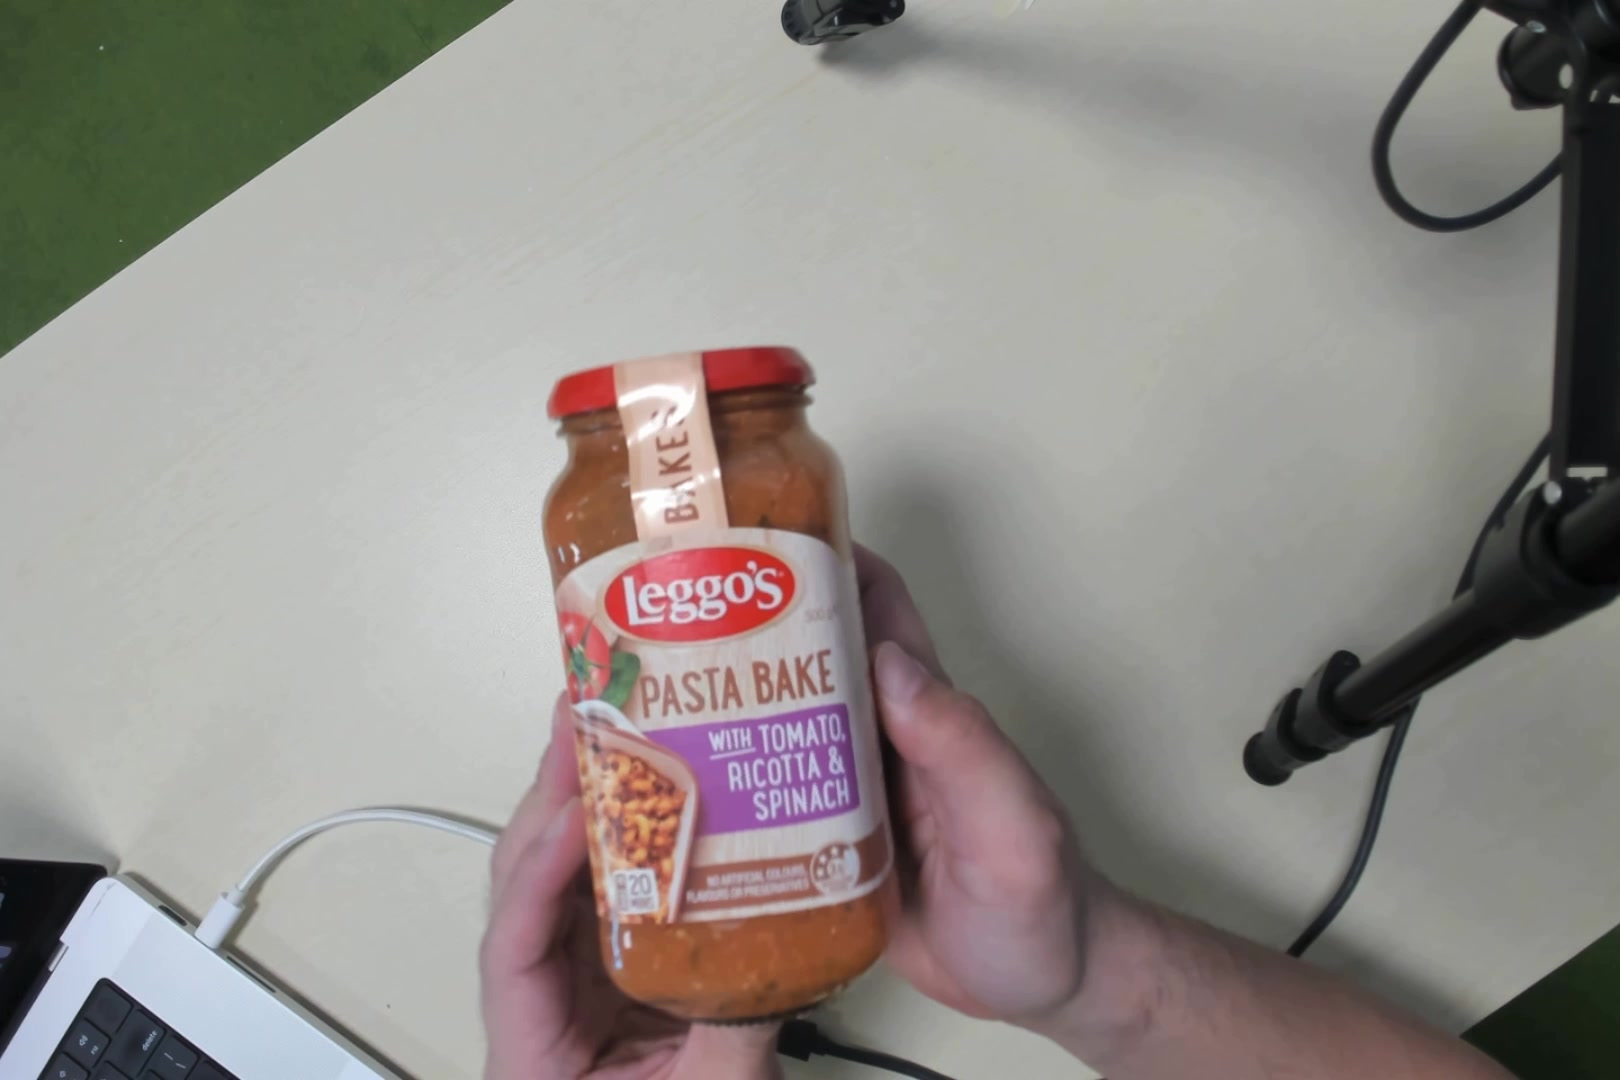Pasta_500-599g_Halal_NonHealthy: (542, 370, 870, 963)
